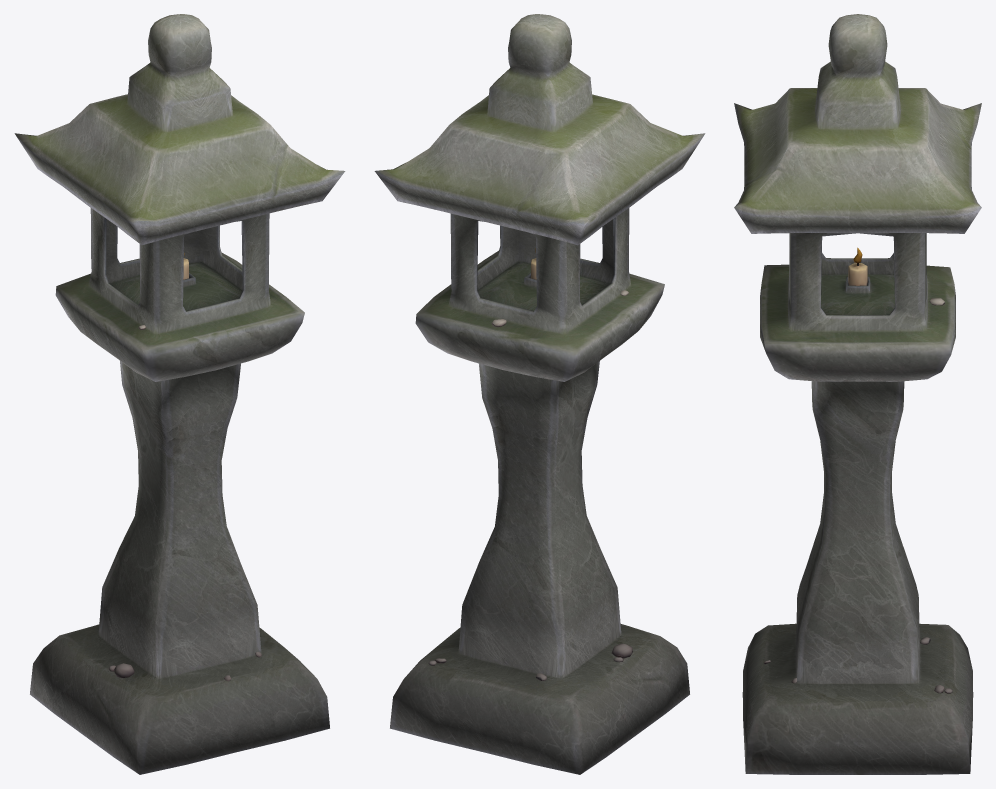
The model's file is SM_Stone_Lamp.glb.
3 views of the same model, side by side, from view 1: azimuth 30°, elevation 25°; view 2: azimuth 150°, elevation 25°; view 3: azimuth 270°, elevation 25° (orthographic). The views are drawn at different scales.
Parts seen in each view (by area): view 1: SM_Stone_Lamp_LOD0; view 2: SM_Stone_Lamp_LOD0; view 3: SM_Stone_Lamp_LOD0.
Boxes of the visible parts, x1,y1,x2,y2 form: SM_Stone_Lamp_LOD0: (14, 14, 345, 774); SM_Stone_Lamp_LOD0: (374, 14, 705, 774); SM_Stone_Lamp_LOD0: (734, 14, 981, 774).
Size of the model in its own units: 0.5953 by 1.88 by 0.5966.
1 material, 1 textured.
